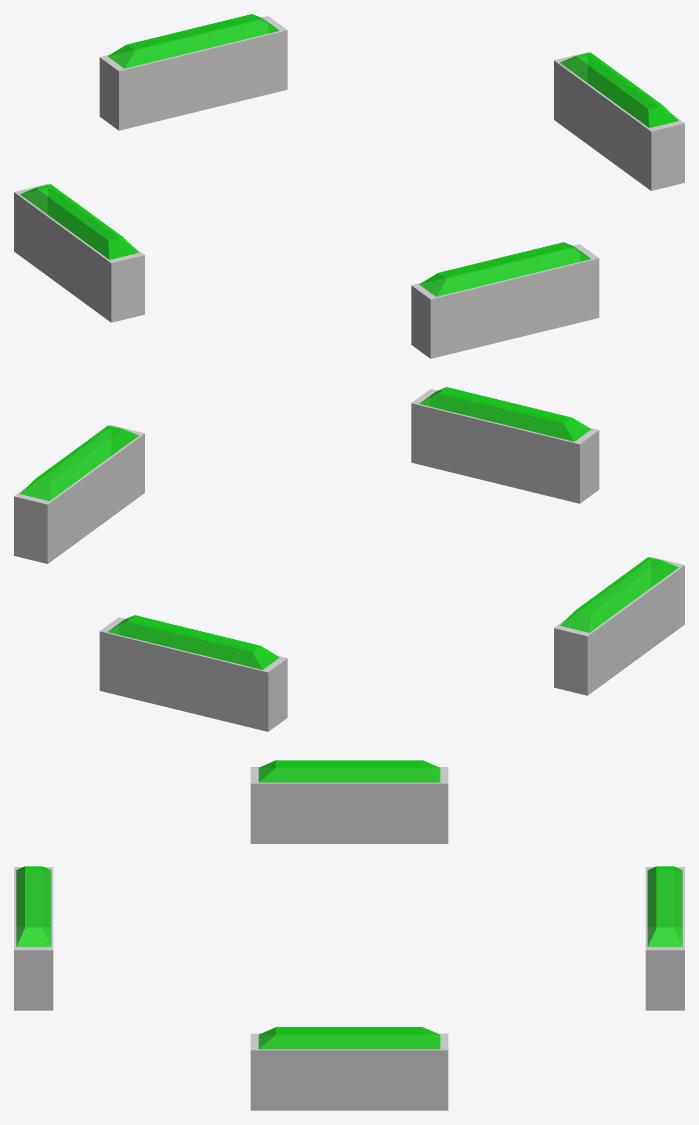
Rendered from PieceRessources.fbx.
3 renders of one model, top to bottom at view 1: azimuth 30°, elevation 25°; view 2: azimuth 150°, elevation 25°; view 3: azimuth 270°, elevation 25°, orthographic.
Visible parts, largest first — view 1: GemmeRessources; view 2: GemmeRessources; view 3: GemmeRessources.
Part boxes in pixels (x1,y1,x2,y2): GemmeRessources: (14, 14, 684, 358); GemmeRessources: (14, 387, 684, 731); GemmeRessources: (14, 760, 684, 1110).
Size of the model in its own units: 1.7 by 1.7 by 0.2.
